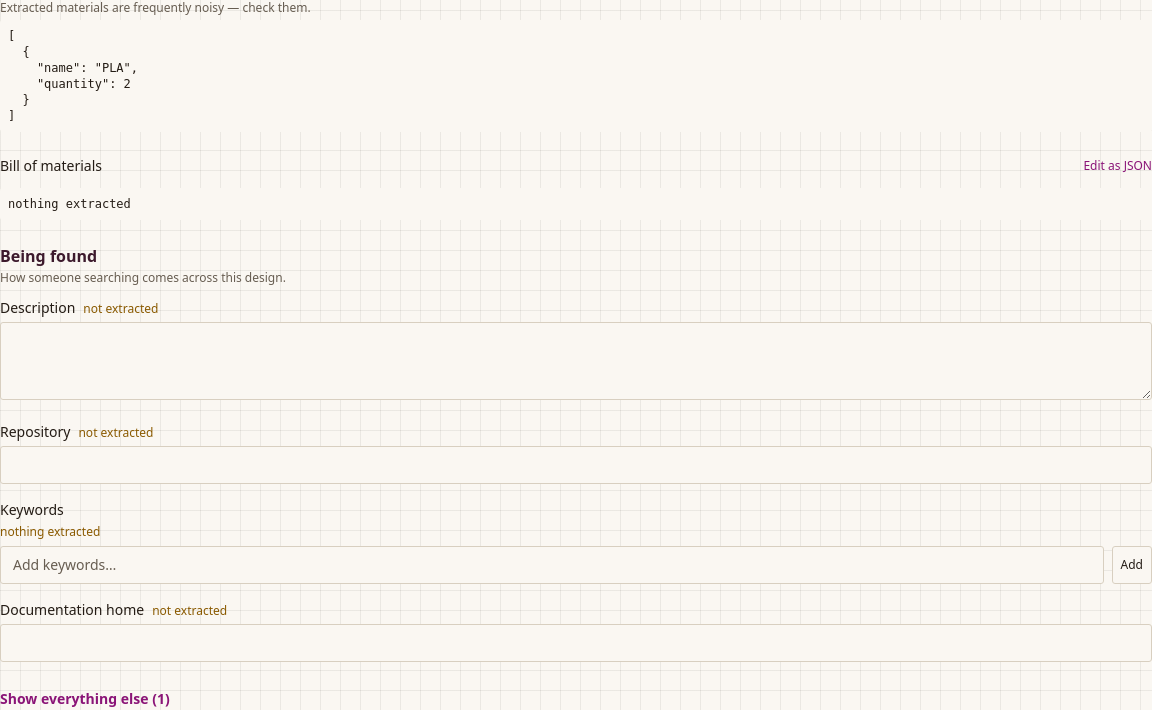
Test: TieredEditor › never hides an unclassified generated field
The image size is (1152, 710).
(page scrolled)
Click the button "Show everything else (1)" at (85, 699), box [0,689,170,709]
(page scrolled)
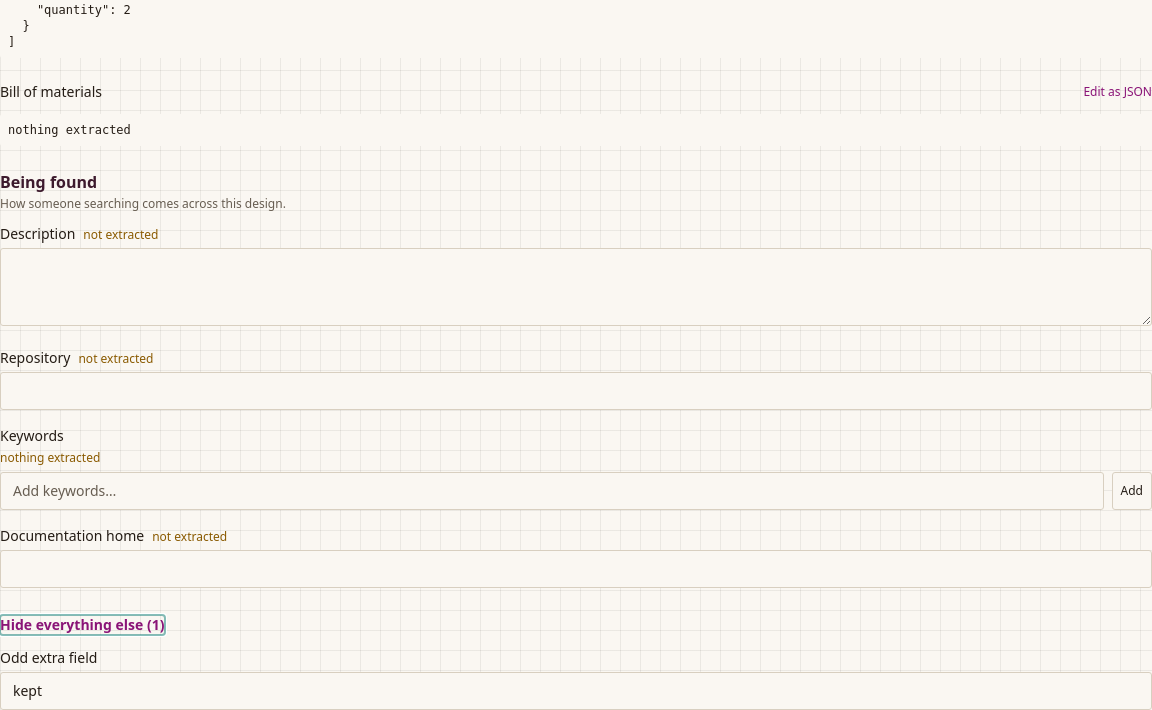
Now the field labelled "Odd extra field" is shown, box [0,672,1151,709]
